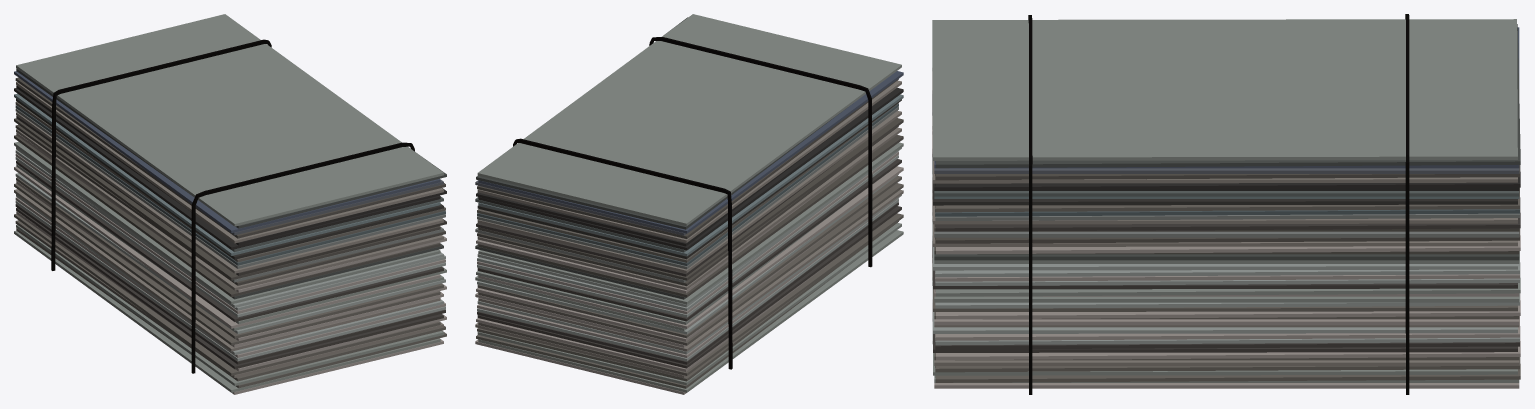
Rendered from SM_Metal_Sheets.glb.
3 renders of one model, left to right at view 1: azimuth 30°, elevation 25°; view 2: azimuth 150°, elevation 25°; view 3: azimuth 270°, elevation 25°, orthographic. The views are drawn at different scales.
Visible parts, largest first — view 1: SM_Metal_Sheets; view 2: SM_Metal_Sheets; view 3: SM_Metal_Sheets.
Boxes of the visible parts, x1,y1,x2,y2 form: SM_Metal_Sheets: (14, 14, 446, 394); SM_Metal_Sheets: (475, 14, 903, 394); SM_Metal_Sheets: (932, 14, 1520, 394).
Size of the model in its own units: 1.85 by 1.42 by 3.15.
1 material, 1 textured.
